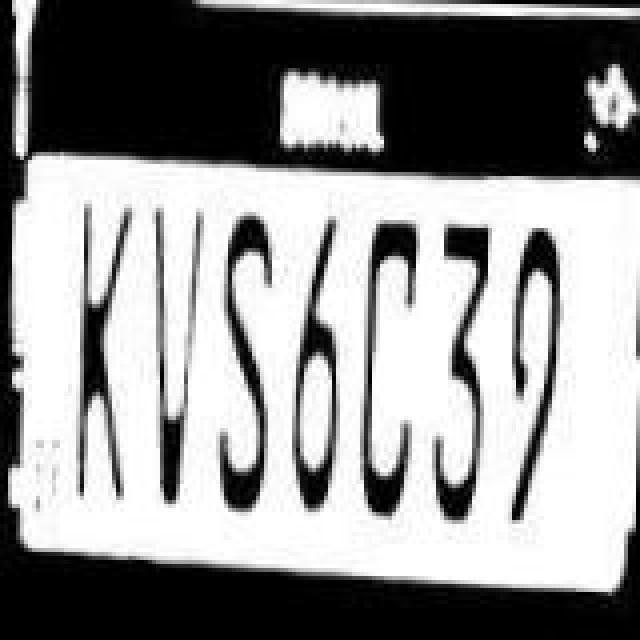3: (422, 216, 502, 532)
6: (276, 210, 360, 522)
9: (494, 224, 574, 536)
C: (352, 212, 428, 516)
K: (64, 188, 152, 500)
S: (200, 206, 284, 514)
V: (138, 196, 210, 492)
